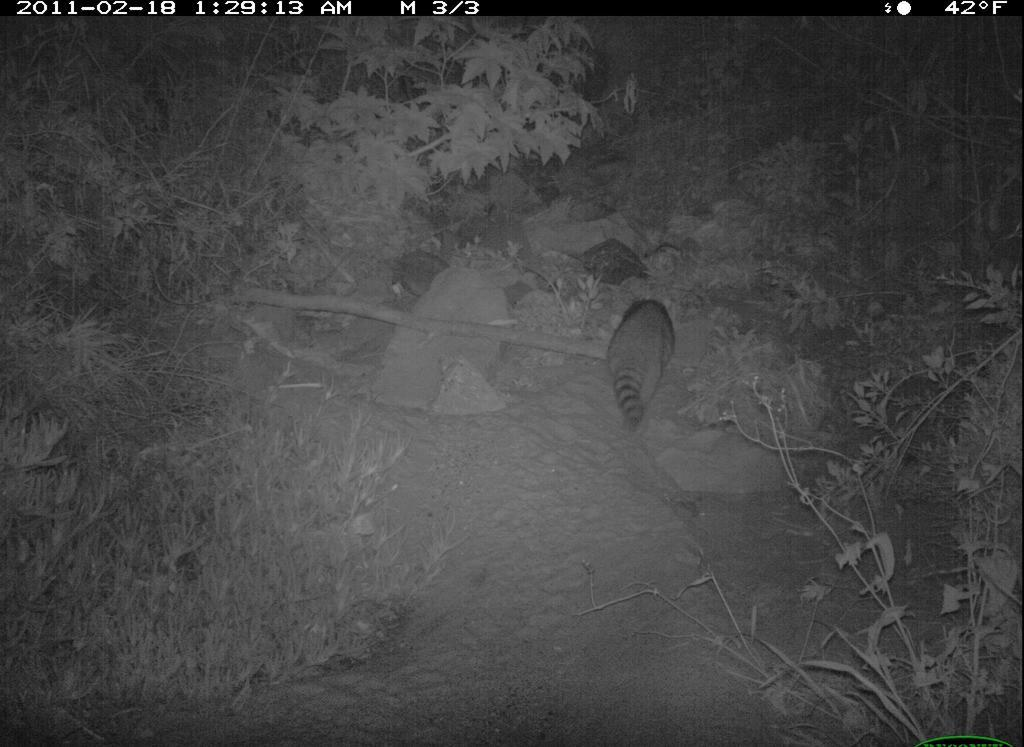raccoon: (601, 290, 689, 440)
